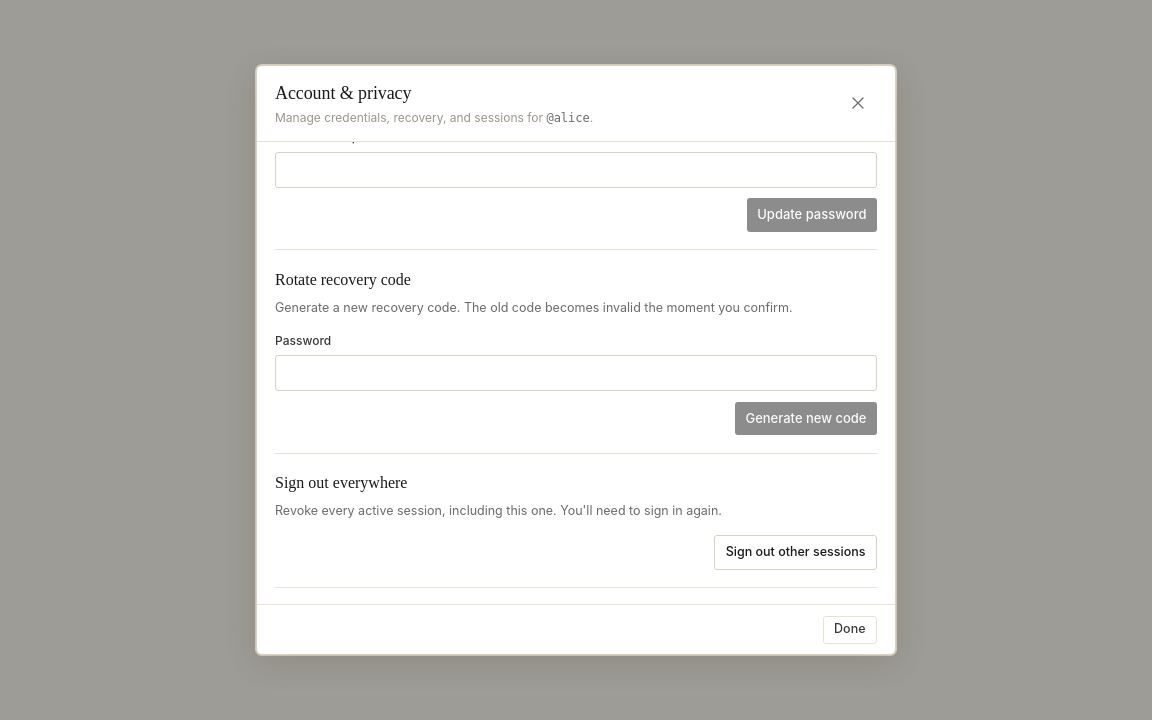
Test case: <AccountPrivacyModal> › rotate-recovery: 200 → swaps to handoff UI; "I have stored this" + Continue returns to the password form
This screenshot has width=1152, height=720.
(page scrolled)
Step 1. Type "hunter2hunter2" into the password field labelled "Password" → (576,373), box x1=275 y1=355 x2=877 y2=391
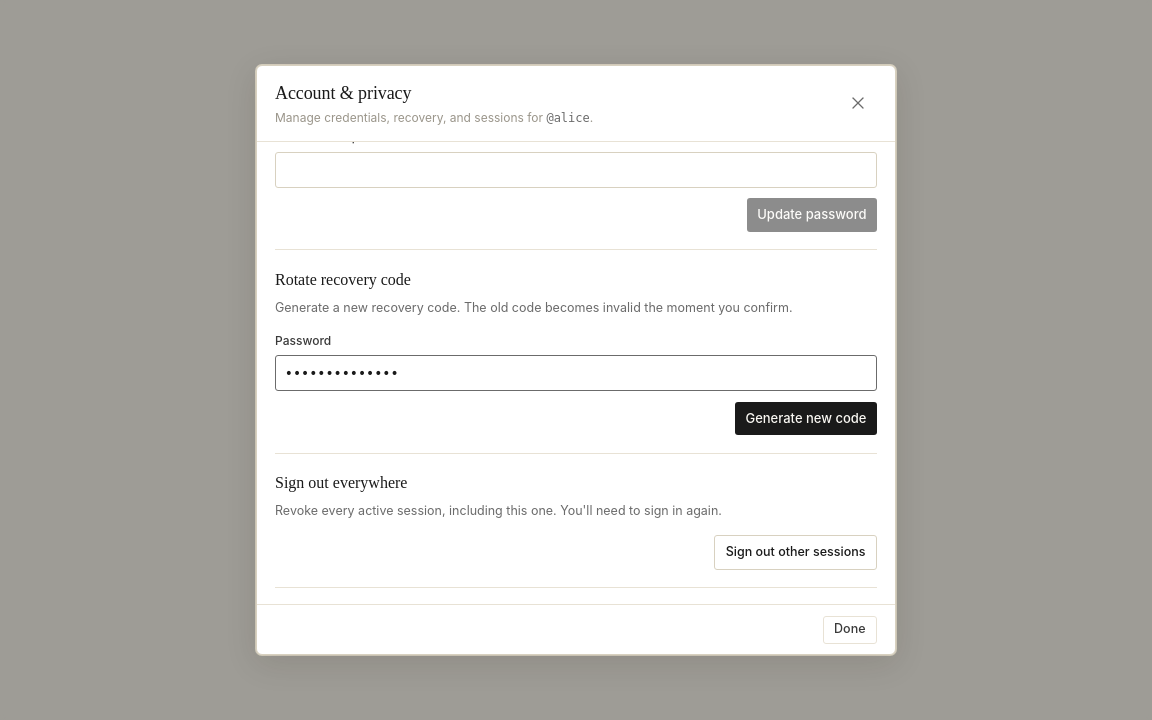
Step 2. Click the button "Generate new code" → (806,418), box x1=735 y1=402 x2=877 y2=435
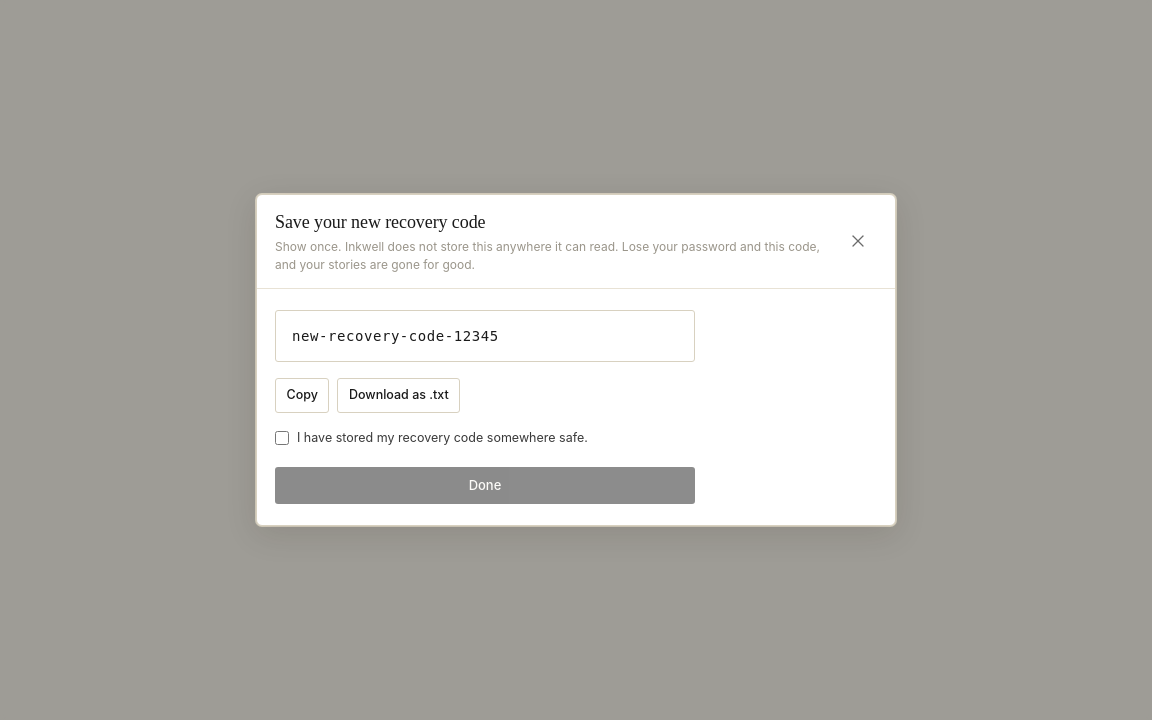
Now the heading "Save your new recovery code" is shown, box x1=275 y1=212 x2=486 y2=232
Now the text "new-recovery-code-12345" is shown, box x1=292 y1=328 x2=499 y2=344
Step 3. Click the checkbox labelled "I have stored my recovery code somewhere safe." → (282,438), box x1=275 y1=431 x2=289 y2=445
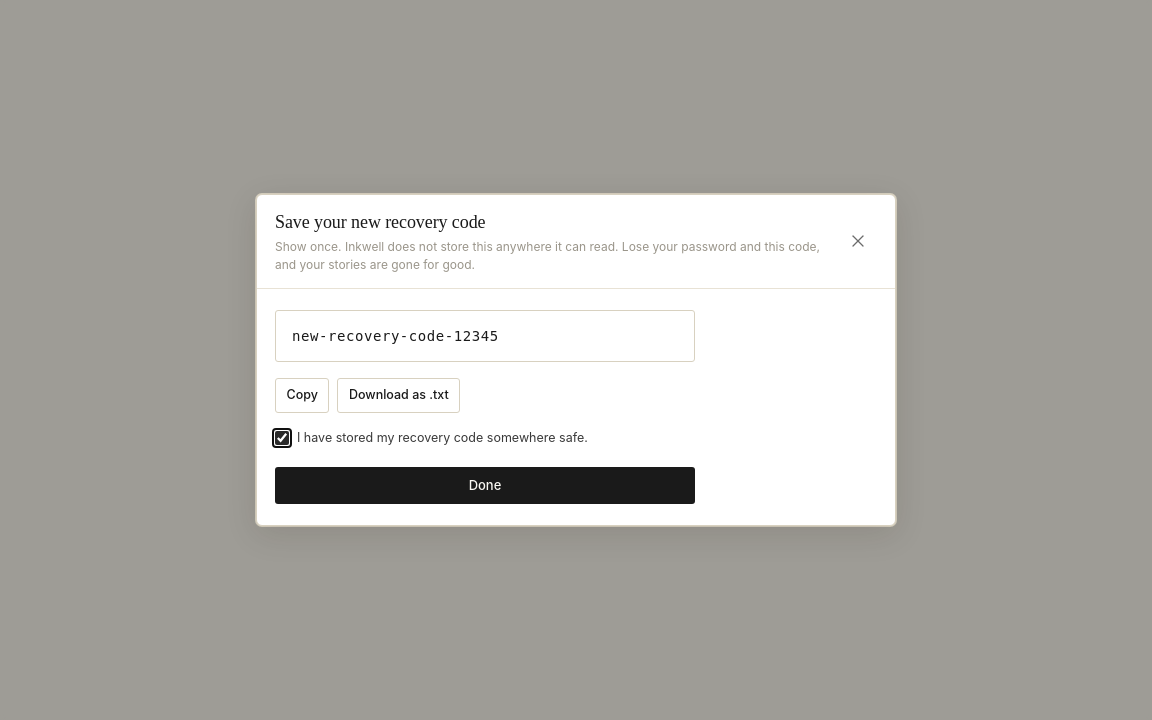
Step 4. Click the button "Done" → (485,486), box x1=275 y1=467 x2=695 y2=504
(page scrolled)
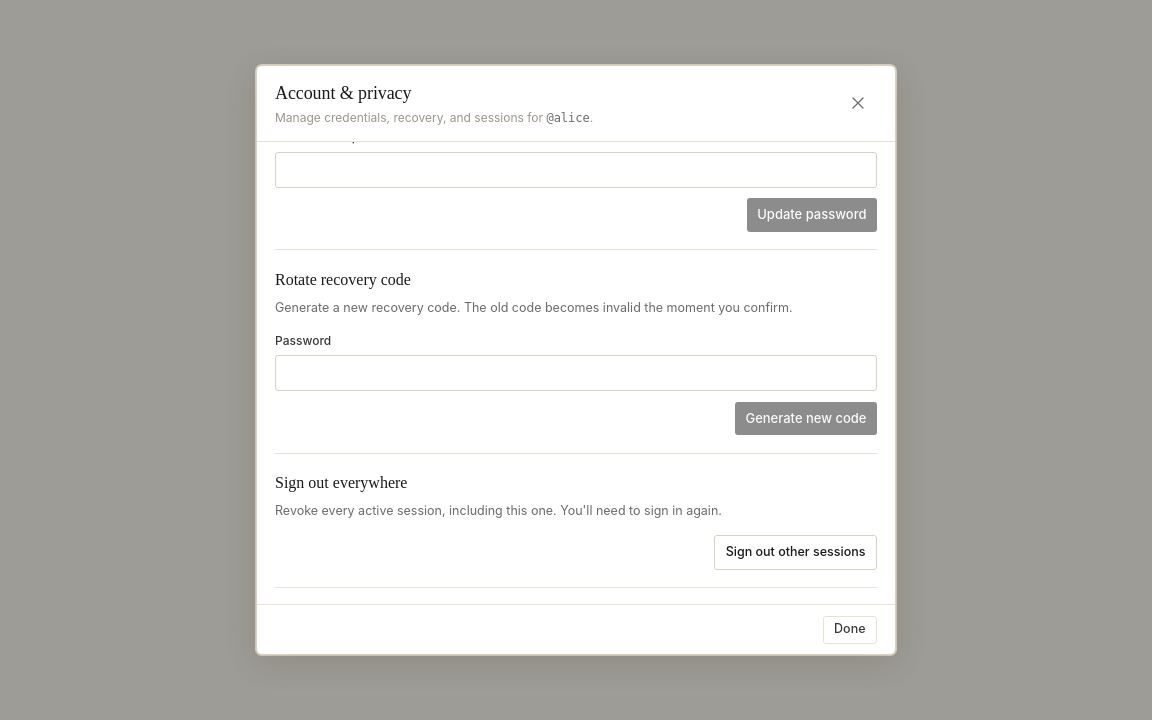
Now the password field labelled "Password" is empty, box x1=275 y1=355 x2=877 y2=391
Now the text "new-recovery-code-12345" is gone
